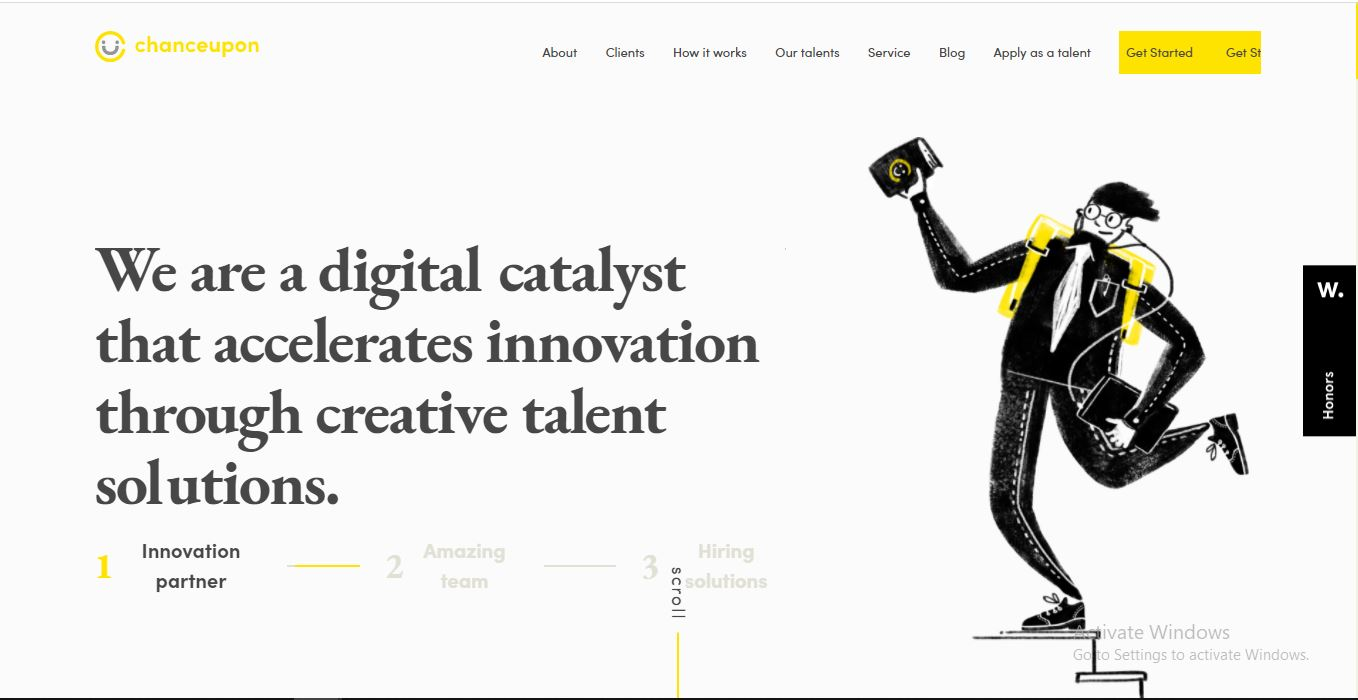Button: (1120, 28, 1216, 82), (1214, 26, 1268, 74)
Image: (847, 132, 1264, 700)
Menu Bar: (523, 26, 1096, 82)
